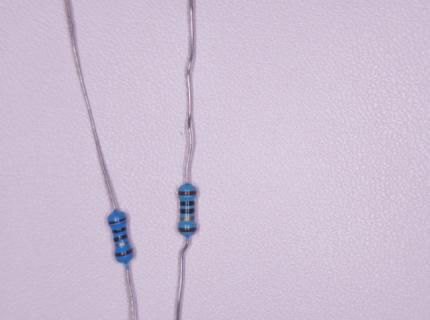Black band: (112, 226, 127, 233), (114, 234, 127, 242), (180, 208, 195, 214), (181, 201, 195, 206)
Brown band: (115, 248, 133, 257), (109, 217, 126, 224), (178, 227, 197, 232), (178, 191, 197, 195)
Gold band: (115, 241, 129, 247), (180, 216, 194, 221)
